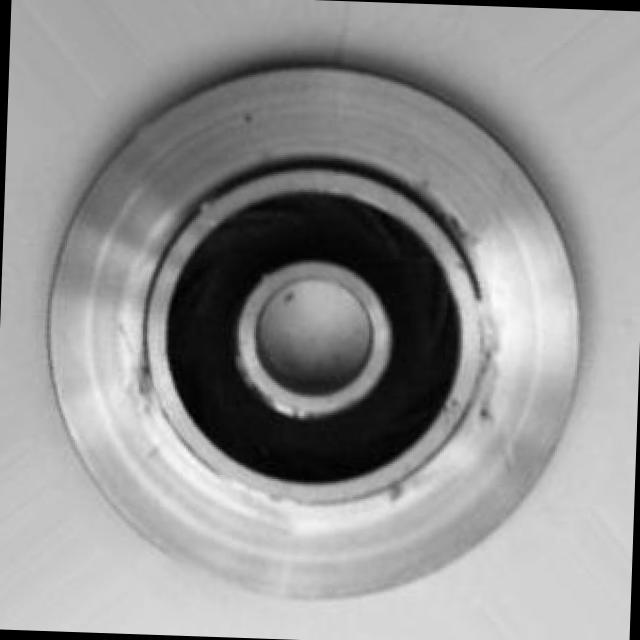Defect: (464, 308, 518, 427)
